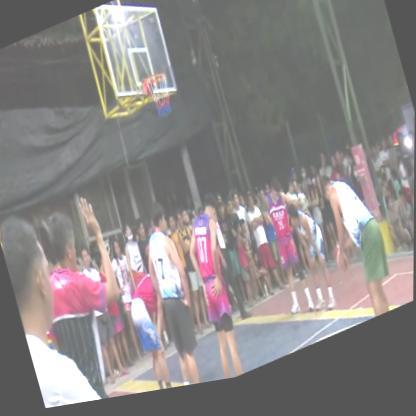basketball: (330, 248, 351, 289)
rim: (140, 63, 183, 136)
